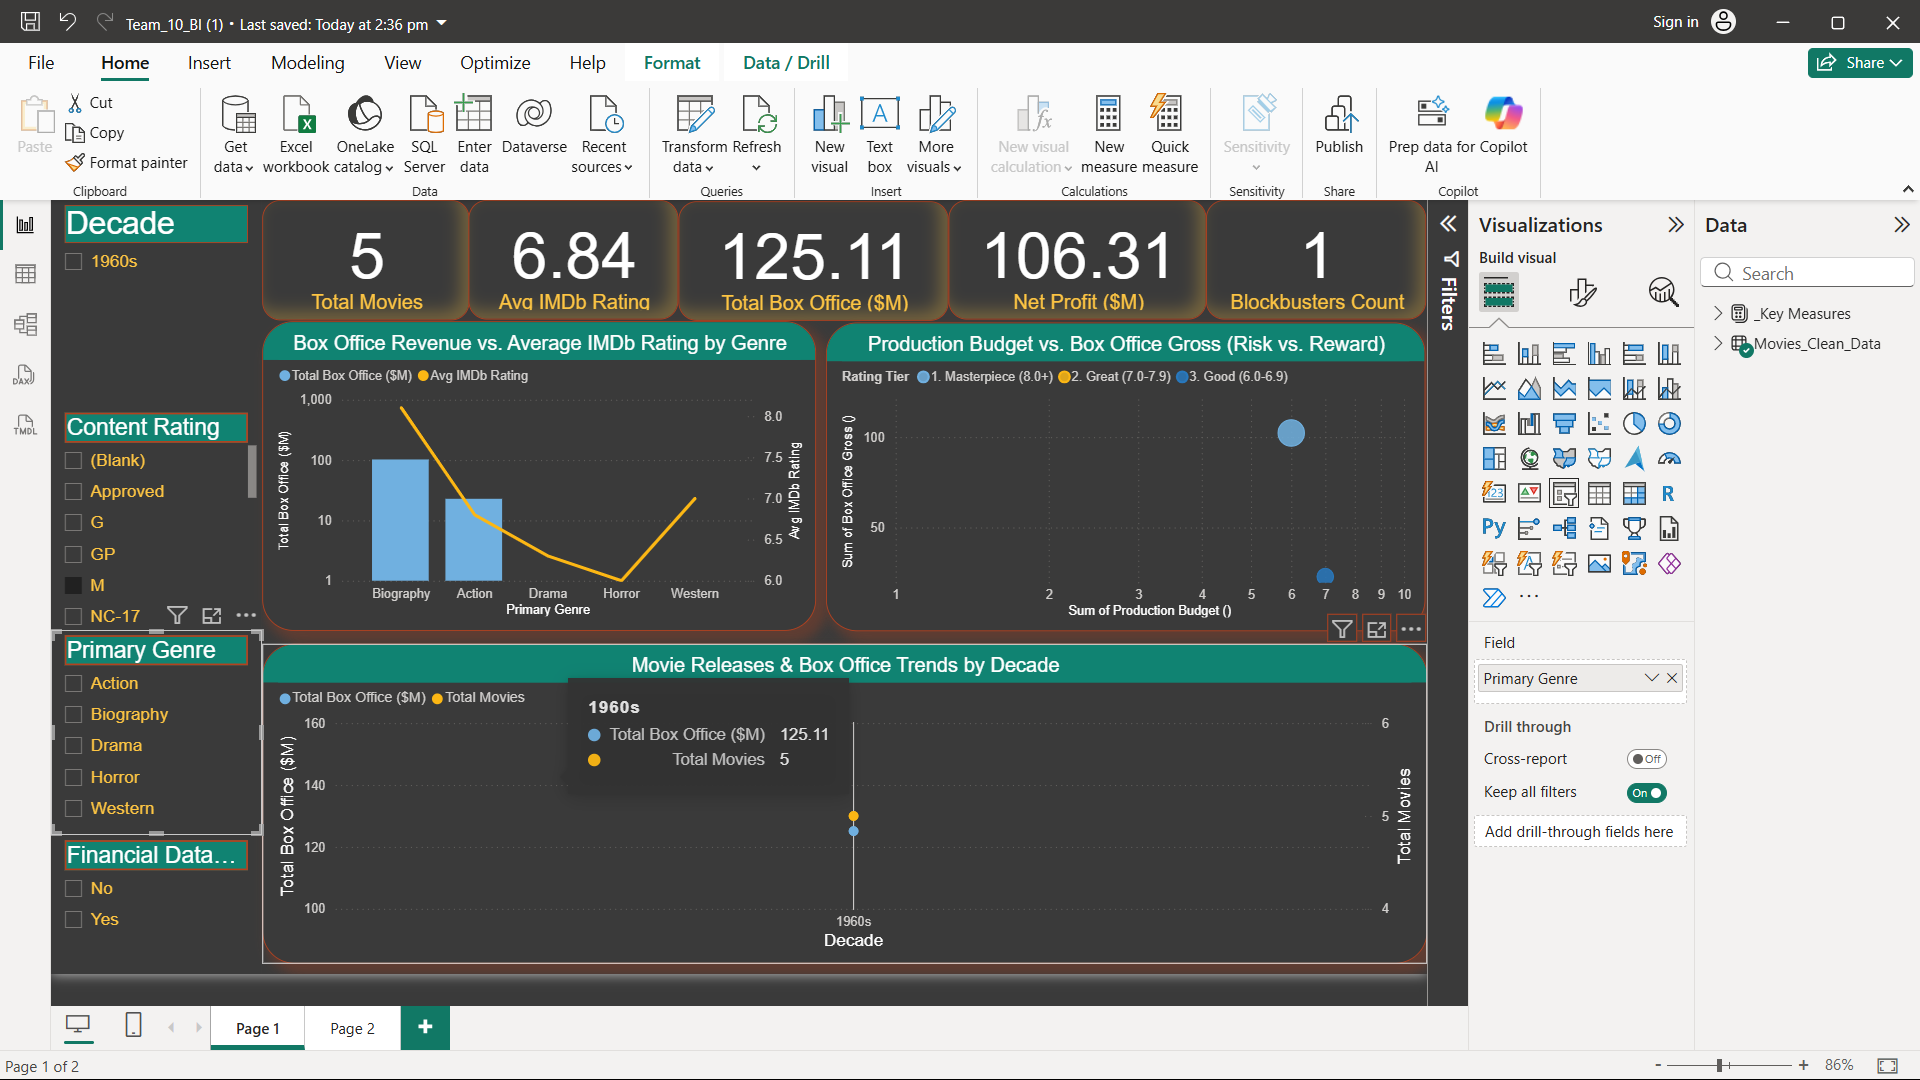

The dashboard page shown, as its layout file describes it:
{"tool":"powerbi","page":{"name":"Page 1","canvas":[1280,720],"ordinal":0},"visuals":[{"type":"slicer","fields":{"Values":["Movies_Clean_Data.Decade"]},"box":[0,0,196.2,191.2],"z":0},{"type":"slicer","fields":{"Values":["Movies_Clean_Data.Content Rating"]},"box":[0,192.5,196.2,208.8],"z":1000},{"type":"slicer","fields":{"Values":["Movies_Clean_Data.Primary Genre"]},"box":[0,400.6,196.3,189.6],"z":2000},{"type":"slicer","fields":{"Values":["Movies_Clean_Data.Financial Data Available"]},"box":[0,590.1,196.3,129.8],"z":3000},{"type":"card","fields":{"Values":["_Key Measures.Total Movies"]},"box":[196.3,0,192.9,111.7],"z":4000},{"type":"card","fields":{"Values":["_Key Measures.Avg IMDb Rating"]},"box":[388.8,0,195,111.2],"z":5000},{"type":"card","fields":{"Values":["_Key Measures.Total Box Office ($M)"]},"box":[583.8,1.2,251.2,111.2],"z":6000},{"type":"card","fields":{"Values":["_Key Measures.Net Profit ($M)"]},"box":[835,0,240,111.2],"z":7000},{"type":"card","fields":{"Values":["_Key Measures.Blockbusters Count"]},"box":[1075,0,205,111.2],"z":8000},{"type":"lineClusteredColumnComboChart","title":"Box Office Revenue vs. Average IMDb Rating by Genre","fields":{"Category":["Movies_Clean_Data.Primary Genre"],"Y":["_Key Measures.Total Box Office ($M)"],"Y2":["_Key Measures.Avg IMDb Rating"]},"box":[196.7,113.3,515.6,287.8],"z":9000},{"type":"scatterChart","title":"Production Budget vs. Box Office Gross (Risk vs. Reward)","fields":{"X":["Movies_Clean_Data.Production Budget ()"],"Y":["Movies_Clean_Data.Box Office Gross ()"],"Series":["Movies_Clean_Data.Rating Tier"],"Size":["Sum(Movies_Clean_Data.Votes)"],"Category":["Movies_Clean_Data.Movie ID"]},"box":[721.2,113.8,557.5,287.5],"z":10000},{"type":"areaChart","title":"Movie Releases & Box Office Trends by Decade","fields":{"Category":["Movies_Clean_Data.Decade"],"Y":["_Key Measures.Total Box Office ($M)"],"Y2":["_Key Measures.Total Movies"]},"box":[196.2,412.5,1083.8,297.5],"z":11000}]}

Visuals, with their boxes on the page's 1280x720 design canvas (x1, y1, x2, y2). These are canvas units, not pixel positions in the 1920x1080 screenshot, which may show the page scaled, cropped or inside an application window:
slicer - Movies_Clean_Data.Decade: <region>0, 0, 196, 191</region>
slicer - Movies_Clean_Data.Content Rating: <region>0, 192, 196, 401</region>
slicer - Movies_Clean_Data.Primary Genre: <region>0, 401, 196, 590</region>
slicer - Movies_Clean_Data.Financial Data Available: <region>0, 590, 196, 720</region>
card - _Key Measures.Total Movies: <region>196, 0, 389, 112</region>
card - _Key Measures.Avg IMDb Rating: <region>389, 0, 584, 111</region>
card - _Key Measures.Total Box Office ($M): <region>584, 1, 835, 112</region>
card - _Key Measures.Net Profit ($M): <region>835, 0, 1075, 111</region>
card - _Key Measures.Blockbusters Count: <region>1075, 0, 1280, 111</region>
"Box Office Revenue vs. Average IMDb Rating by Genre" lineClusteredColumnComboChart: <region>197, 113, 712, 401</region>
"Production Budget vs. Box Office Gross (Risk vs. Reward)" scatterChart: <region>721, 114, 1279, 401</region>
"Movie Releases & Box Office Trends by Decade" areaChart: <region>196, 412, 1280, 710</region>
